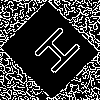H: (24, 24, 83, 82)
